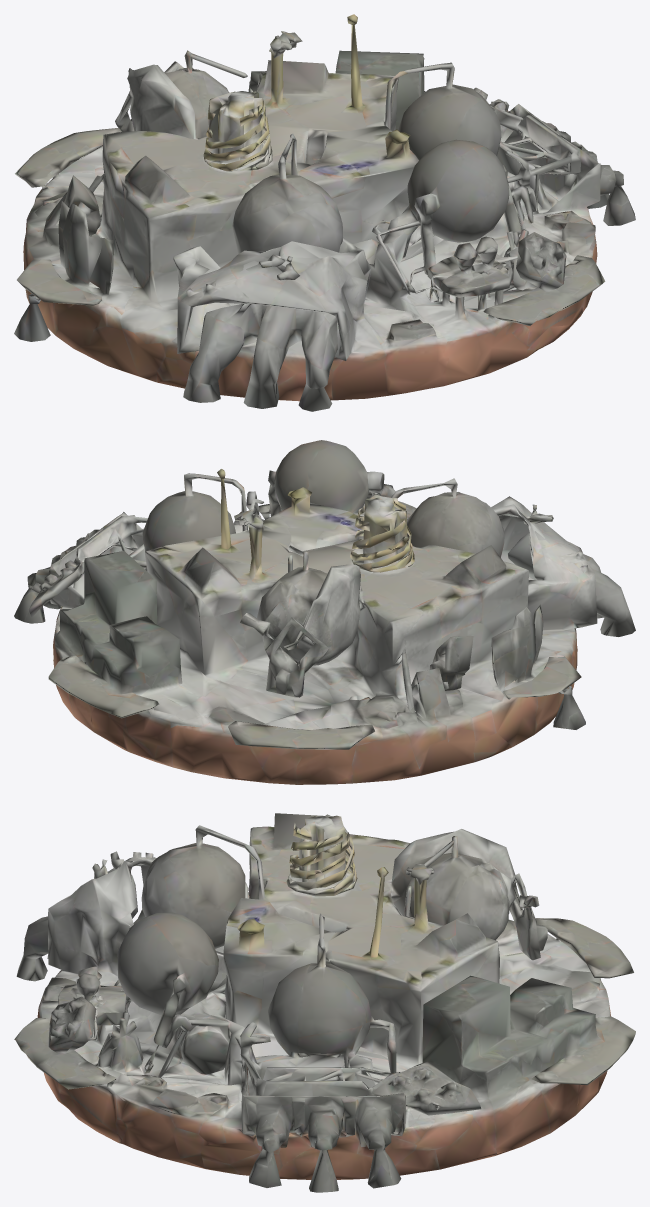
The model's file is schiaparelli-low.glb.
The picture shows the model from 3 angles, top to bottom: view 1: azimuth 30°, elevation 25°; view 2: azimuth 150°, elevation 25°; view 3: azimuth 270°, elevation 25°; orthographic projection. The views are drawn at different scales.
Bounding box in the file's own units: 1.89 × 0.7055 × 1.72.
1 material, 1 textured.
